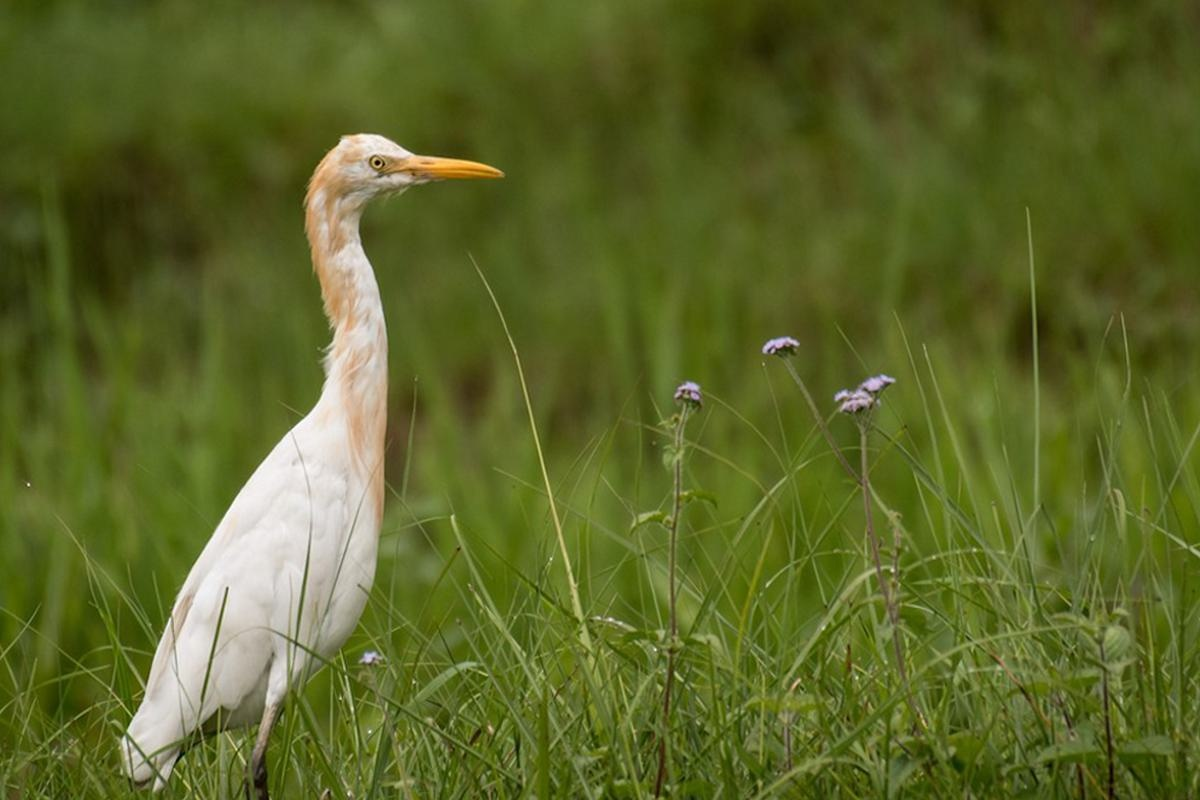egret: (83, 118, 508, 758)
